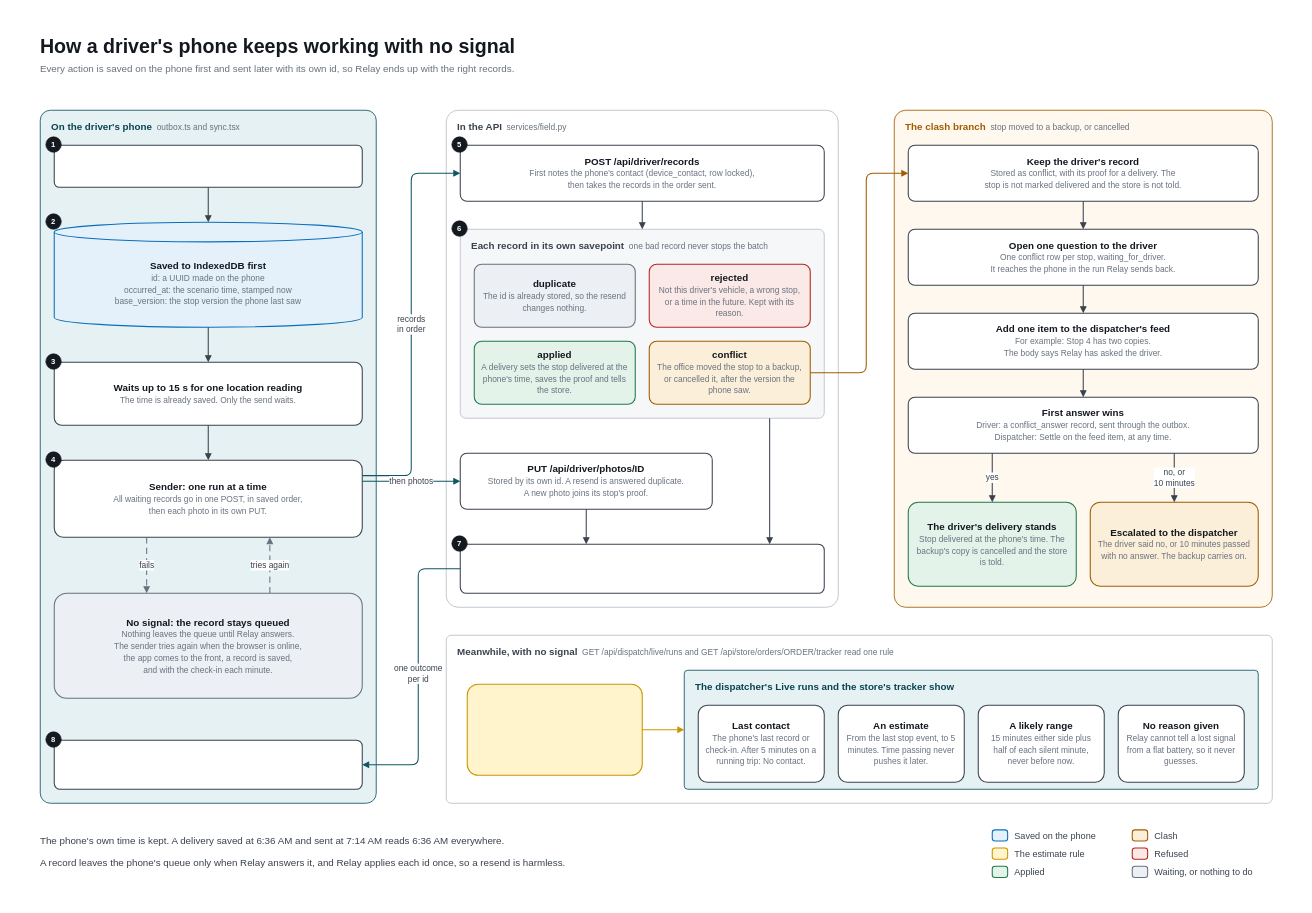
Image size: 1312x913. Some labels were removed from this diagram. The centre of each missing label's shape, as x and y in pixels:
Answer One outcome per record id, and the run as Relay now has it.: pixel 641 568
Answered: it leaves the queue Kept as sent, with the outcome Relay gave.: pixel 207 764
One estimate rule relay_engine/estimate.py, fed by services/estimates.py: pixel 554 729
The driver acts Arrived, Complete stop, Send report or an answer: pixel 207 165
